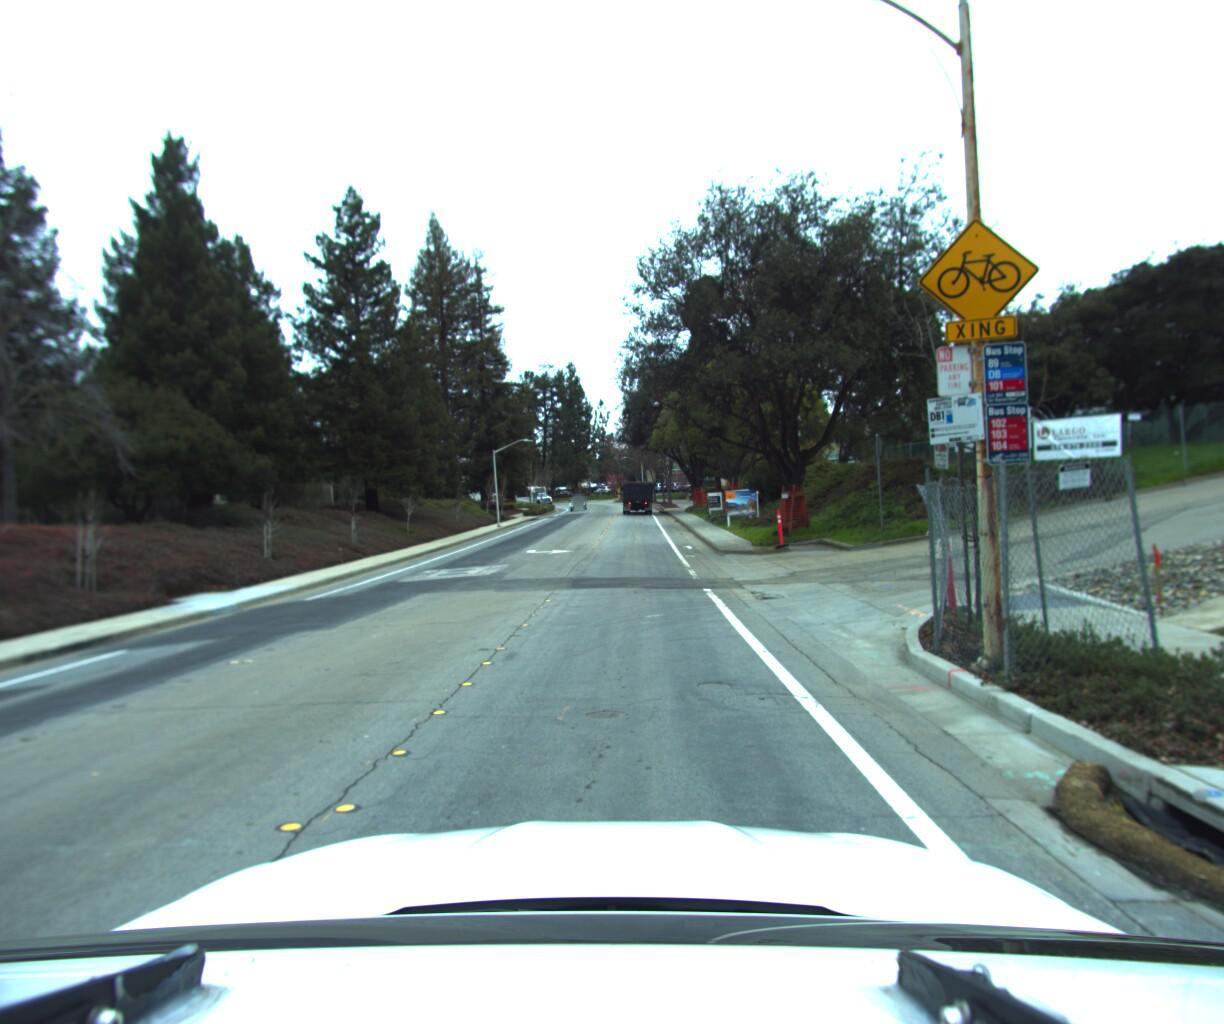car: (568, 493, 590, 509)
truck: (620, 471, 658, 516)
